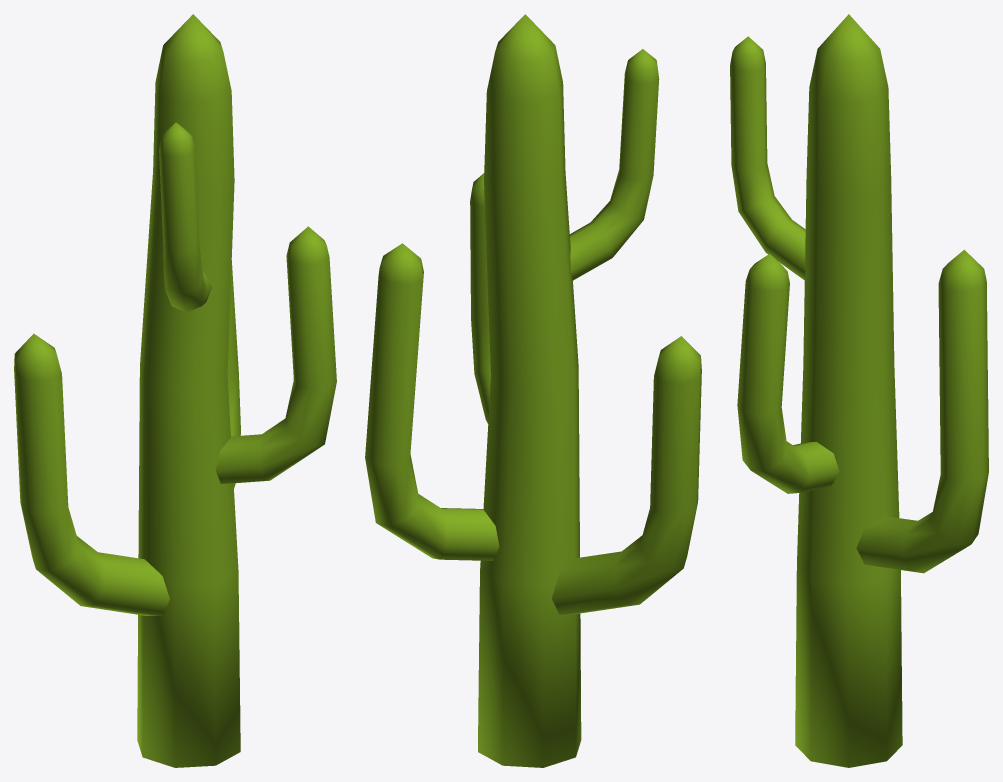
The model's file is Cactus_Lime_Smooth_2.fbx.
3 renders of one model, left to right at view 1: azimuth 30°, elevation 25°; view 2: azimuth 150°, elevation 25°; view 3: azimuth 270°, elevation 25°, orthographic.
Parts seen in each view (by area): view 1: Cactus; view 2: Cactus; view 3: Cactus.
Part boxes in pixels (x1,y1,x2,y2): Cactus: (14,14,336,767); Cactus: (365,14,701,767); Cactus: (730,14,988,767).
Size of the model in its own units: 153 by 386 by 124.
